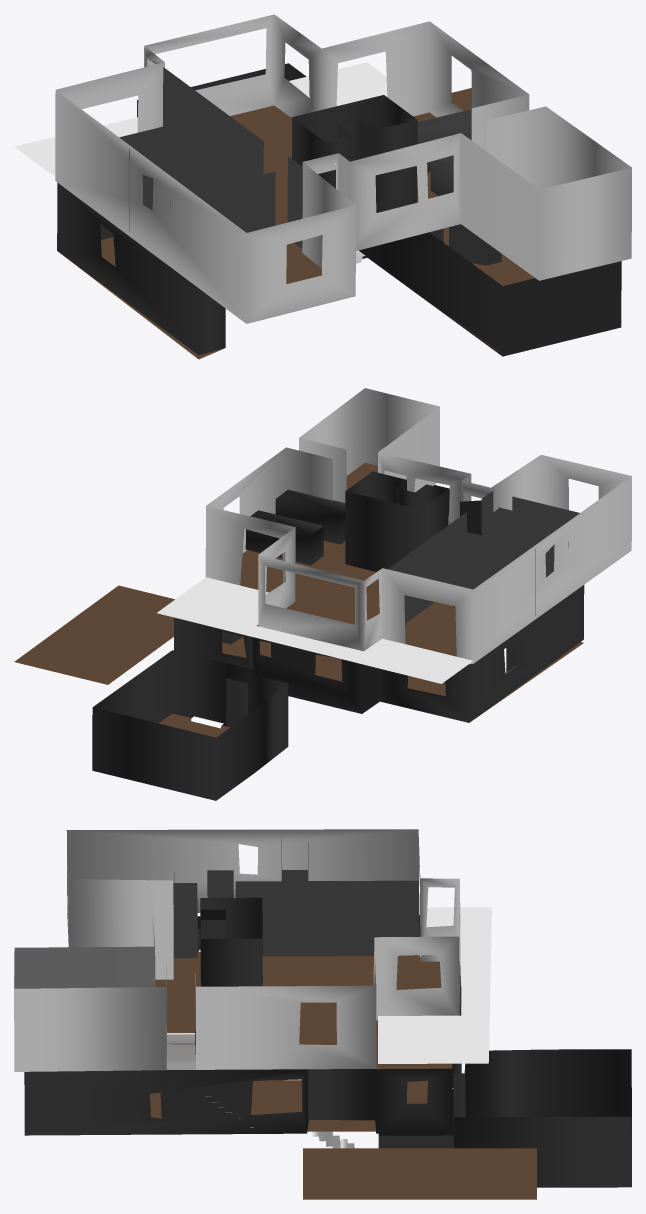
The model's file is house1.dae.
3 renders of one model, top to bottom at view 1: azimuth 30°, elevation 25°; view 2: azimuth 150°, elevation 25°; view 3: azimuth 270°, elevation 25°, orthographic. The views are drawn at different scales.
Visible parts, largest first — view 1: wallup_Plane.005, wallmid_Plane.006, wall_Plane.012, floortop_Plane.001, wall.002_Plane.009, Plane.017_Plane.019, wall.006_Plane.016, wall.004_Plane.014, wall.005_Plane.015, wall.009_Plane.020, wallmid.001_Plane.022, wall.003_Plane.013 (+5 smaller); view 2: wallup_Plane.005, wallgreen_Plane.007, wallmid_Plane.006, Plane2, Plane.017_Plane.019, wall_Plane.012, floortop_Plane.001, wall.002_Plane.009, wall.010_Plane.021, wall.009_Plane.020, wall.003_Plane.013, wall.005_Plane.015 (+6 smaller); view 3: wallup_Plane.005, wallmid_Plane.006, wallgreen_Plane.007, Plane2, wall.002_Plane.009, Plane.017_Plane.019, floortop_Plane.001, wall_Plane.012, Plane1, wall.001_Plane.010, wallplant_Plane.008, Grid.003_Grid.003 (+1 smaller).
Boxes of the visible parts, x1=… form: wallup_Plane.005: x1=55, y1=14, x2=631, y2=323; wallmid_Plane.006: x1=57, y1=182, x2=621, y2=356; wall_Plane.012: x1=292, y1=95, x2=417, y2=213; floortop_Plane.001: x1=230, y1=105, x2=438, y2=283; wall.002_Plane.009: x1=163, y1=67, x2=263, y2=175; Plane.017_Plane.019: x1=14, y1=62, x2=387, y2=175; wall.006_Plane.016: x1=192, y1=171, x2=275, y2=232; wall.004_Plane.014: x1=129, y1=128, x2=215, y2=230; wall.005_Plane.015: x1=170, y1=158, x2=256, y2=208; wall.009_Plane.020: x1=417, y1=109, x2=471, y2=172; wallmid.001_Plane.022: x1=449, y1=224, x2=488, y2=265; wall.003_Plane.013: x1=119, y1=117, x2=201, y2=147; wallup_Plane.005: x1=205, y1=388, x2=631, y2=663; wallgreen_Plane.007: x1=92, y1=650, x2=288, y2=800; wallmid_Plane.006: x1=174, y1=485, x2=584, y2=722; Plane2: x1=14, y1=585, x2=174, y2=684; Plane.017_Plane.019: x1=157, y1=577, x2=472, y2=683; wall_Plane.012: x1=345, y1=471, x2=448, y2=571; floortop_Plane.001: x1=240, y1=462, x2=456, y2=656; wall.002_Plane.009: x1=388, y1=512, x2=466, y2=623; wall.010_Plane.021: x1=275, y1=489, x2=345, y2=544; wall.009_Plane.020: x1=245, y1=510, x2=323, y2=565; wall.003_Plane.013: x1=452, y1=540, x2=519, y2=607; wall.005_Plane.015: x1=498, y1=507, x2=568, y2=577; wallup_Plane.005: x1=14, y1=829, x2=460, y2=1071; wallmid_Plane.006: x1=24, y1=915, x2=461, y2=1135; wallgreen_Plane.007: x1=453, y1=1049, x2=631, y2=1187; Plane2: x1=303, y1=1148, x2=536, y2=1199; wall.002_Plane.009: x1=235, y1=880, x2=419, y2=956; Plane.017_Plane.019: x1=378, y1=907, x2=491, y2=1063; floortop_Plane.001: x1=68, y1=913, x2=459, y2=1044; wall_Plane.012: x1=200, y1=897, x2=262, y2=986; Plane1: x1=251, y1=1080, x2=427, y2=1131; wall.001_Plane.010: x1=173, y1=883, x2=197, y2=958; wallplant_Plane.008: x1=378, y1=1089, x2=453, y2=1148; Grid.003_Grid.003: x1=166, y1=1033, x2=195, y2=1069.
Size of the model in its own units: 12.69 by 5.61 by 14.9.
